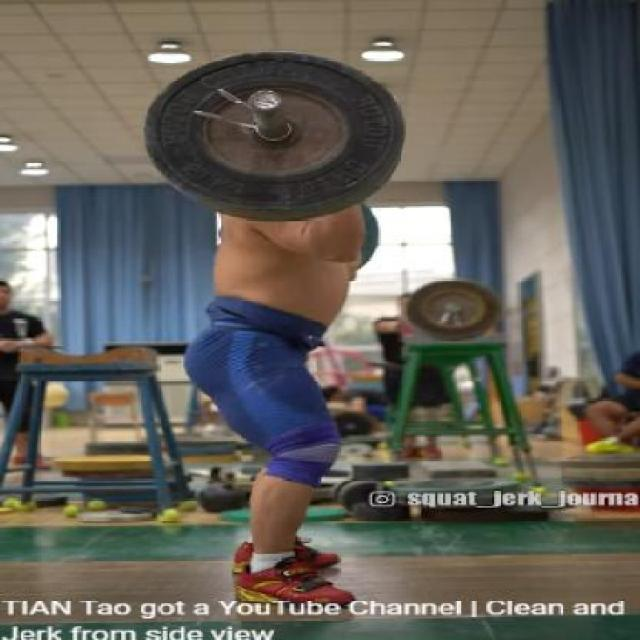Barbell: (246, 85, 288, 114)
